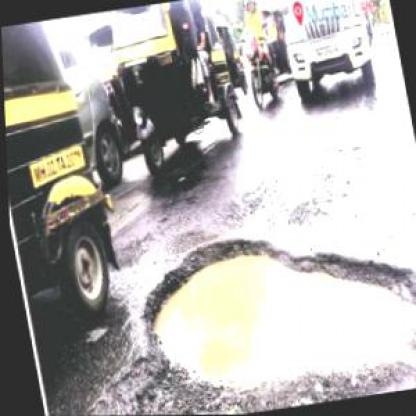pothole: (124, 206, 414, 414)
